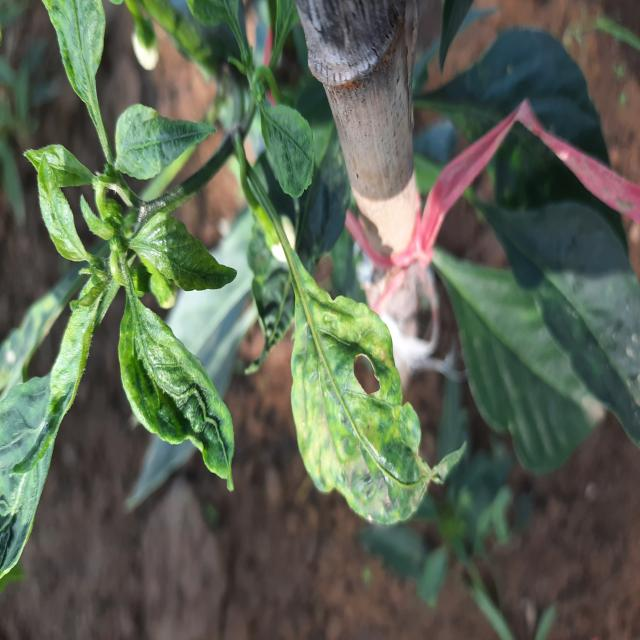thrips: (108, 272, 242, 496)
